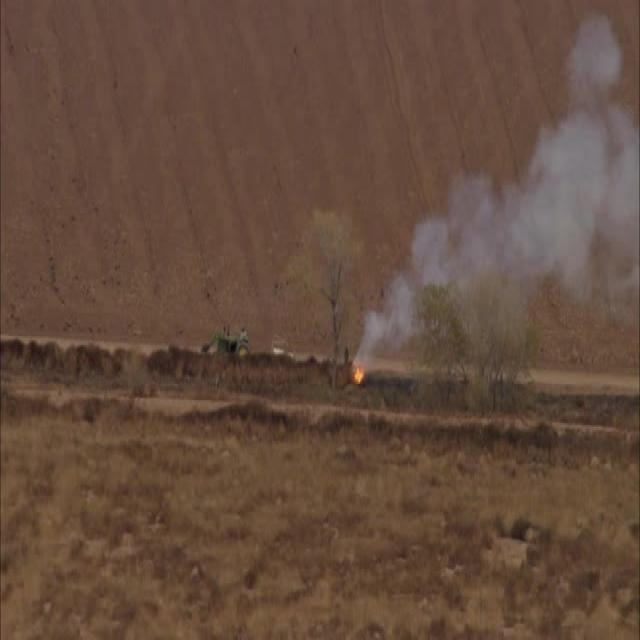fire: (352, 361, 364, 384)
smoke: (354, 16, 639, 372)
